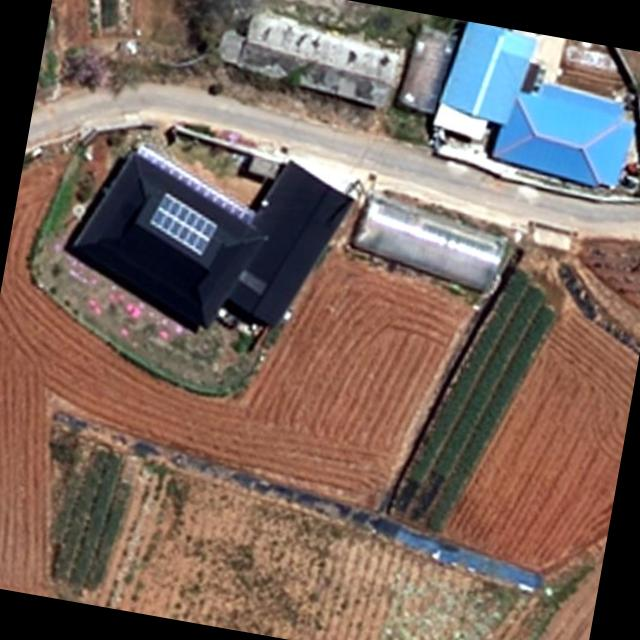solar: (140, 187, 226, 260)
